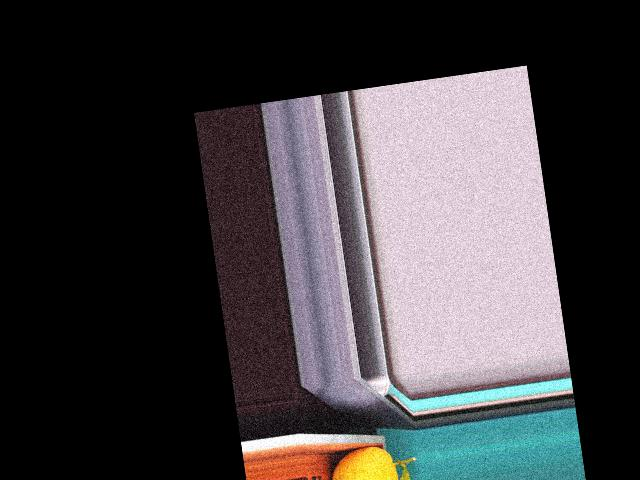lemon: (327, 438, 406, 480)
